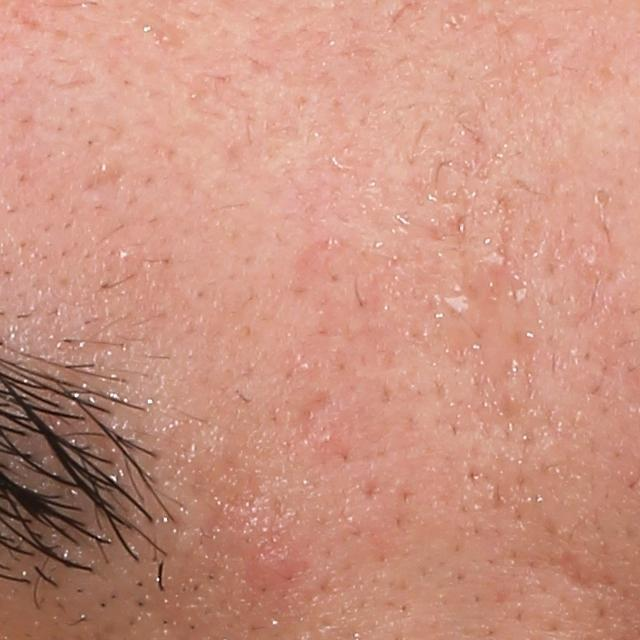atrophic_scar: (287, 384, 336, 454), (559, 549, 605, 594), (76, 166, 133, 197)
comedo: (588, 186, 613, 210)
papule: (242, 539, 301, 594)
